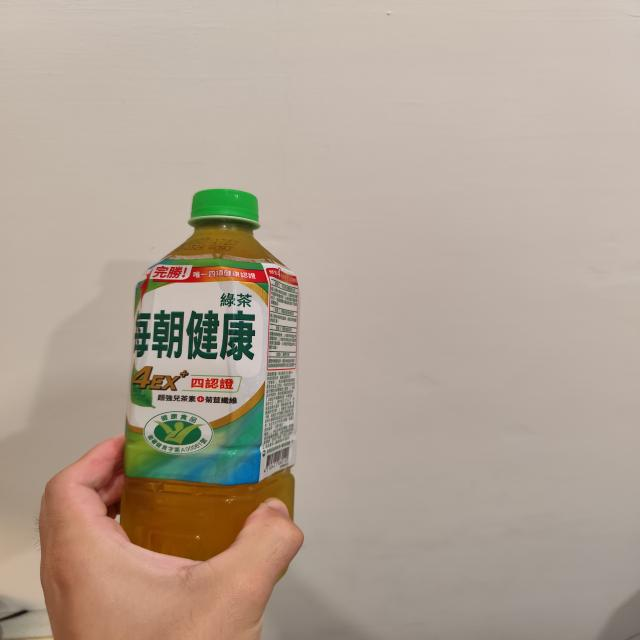MeiChou_GreenTea: (107, 171, 309, 584)
